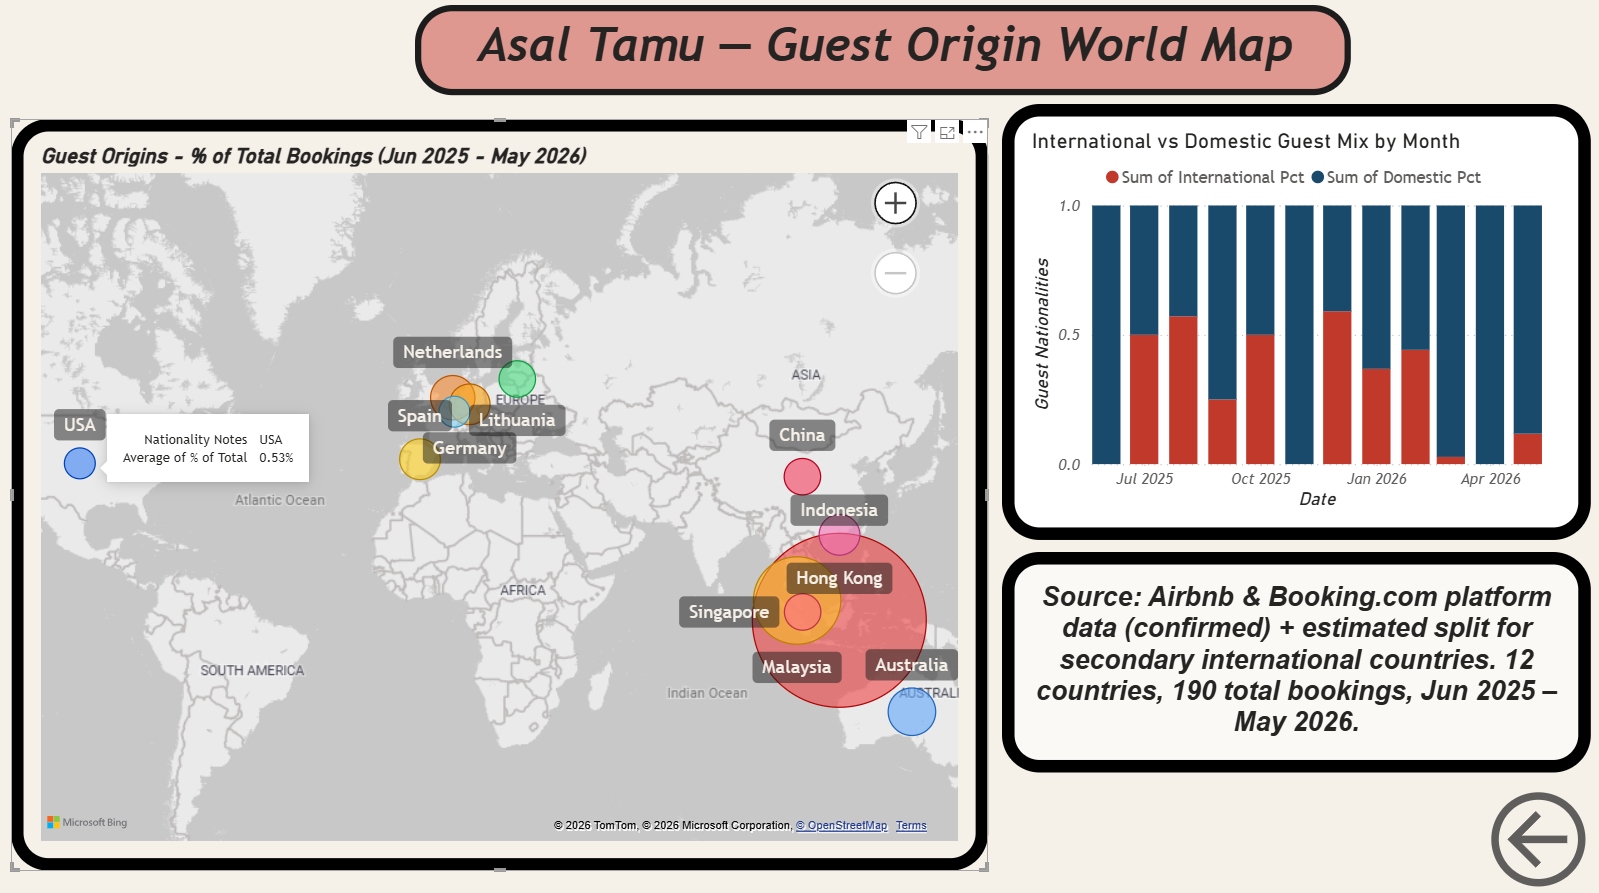

Layout of this report page (visuals, bound fields, positions):
{"tool":"powerbi","page":{"name":"Guest Nationalities","canvas":[1280,720],"ordinal":4},"visuals":[{"type":"map","title":"Guest Origins - % of Total Bookings (Jun 2025 - May 2026)","fields":{"Category":["Nationality.Nationality Notes"],"Size":["Avg(Nationality.% of Total)"]},"box":[11.1,100,780,600],"z":0},{"type":"columnChart","title":"International vs Domestic Guest Mix by Month","fields":{"Category":["Property_Data.Date"],"Y":["Sum(Property_Data.International Pct)","Sum(Property_Data.Domestic Pct)"]},"box":[802.2,87.8,470,347.8],"z":1000},{"type":"textbox","box":[802.2,445.6,470,175.6],"z":2000},{"type":"textbox","box":[333.3,8.9,746.7,72.2],"z":3000},{"type":"actionButton","box":[1185,630,95,90],"z":4000}]}

Visuals, with their boxes in screenshot pixels (x1, y1, x2, y2), scaled from the page's 1280x720 canvas onto the 1599x893 screenshot:
"Guest Origins - % of Total Bookings (Jun 2025 - May 2026)" map: x1=14, y1=124, x2=988, y2=868
"International vs Domestic Guest Mix by Month" columnChart: x1=1002, y1=109, x2=1589, y2=540
textbox: x1=1002, y1=553, x2=1589, y2=770
textbox: x1=416, y1=11, x2=1349, y2=101
actionButton: x1=1480, y1=781, x2=1598, y2=892
